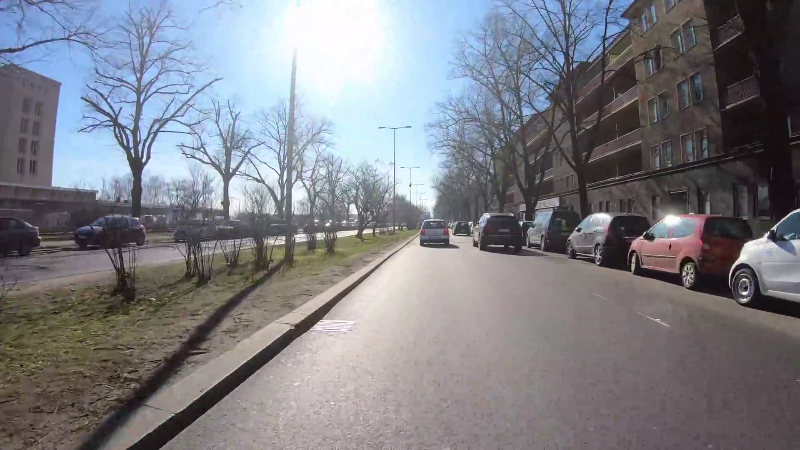Plate: (496, 227, 511, 233)
